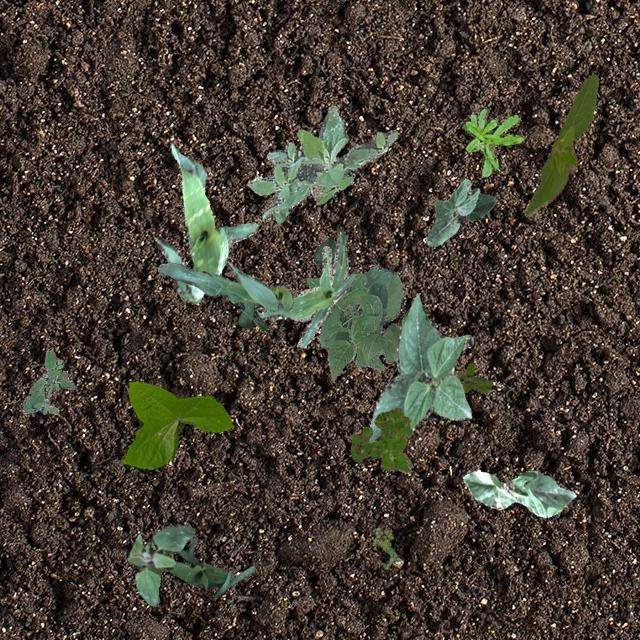crop: (152, 144, 258, 304), (366, 292, 472, 442), (254, 228, 354, 346), (306, 264, 402, 380), (524, 74, 598, 214), (120, 381, 232, 468), (156, 262, 292, 330), (150, 530, 253, 596), (462, 468, 574, 516), (424, 178, 496, 245), (312, 236, 334, 272)
weed: (245, 105, 396, 222), (126, 524, 194, 604), (462, 106, 522, 176), (349, 407, 412, 472), (22, 349, 74, 414), (372, 526, 398, 568), (456, 362, 492, 392)
